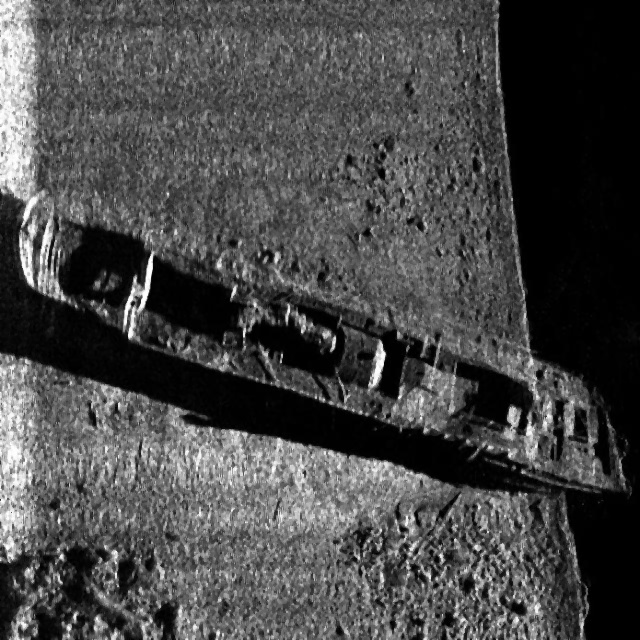Ship: (11, 180, 637, 540)
